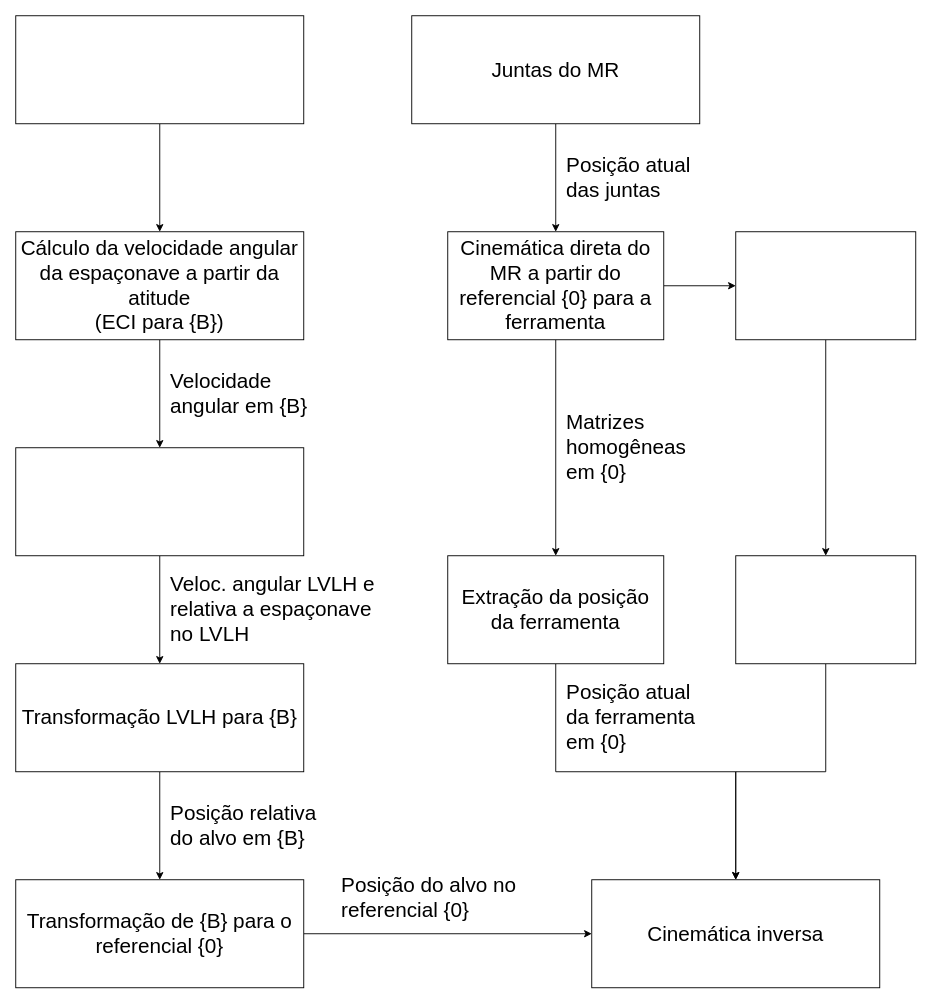
The diagram is 932 pixels wide and 1004 high, and some of its shapes have lost their labels. Each missing label, with the centre of its shape:
Cálculo das taxas angulares entre ECI, LVLH e espaçonave: the point at 159,501
Jacobiana angular: the point at 825,285
Jacobiana linear: the point at 825,609
Posição e velocidade do perseguidor (ECI): the point at 159,69
